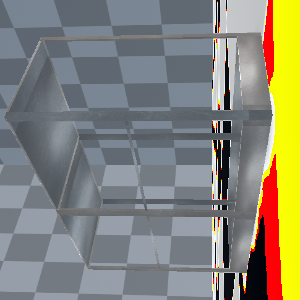Rack: (1, 31, 274, 273)
